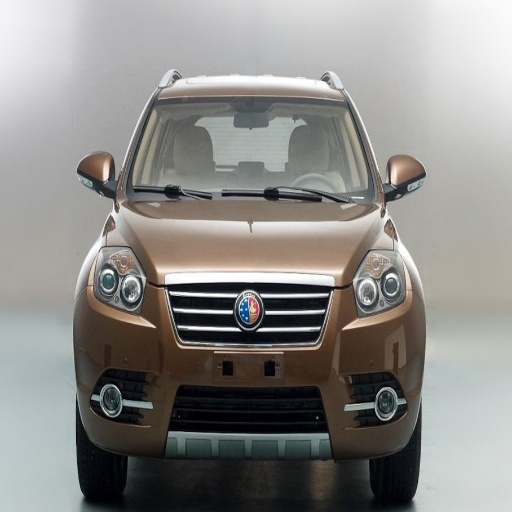front_bumper: (75, 284, 424, 461)
front_right_light: (89, 243, 145, 314)
hood: (110, 192, 391, 286)
left_mirror: (384, 154, 426, 201)
